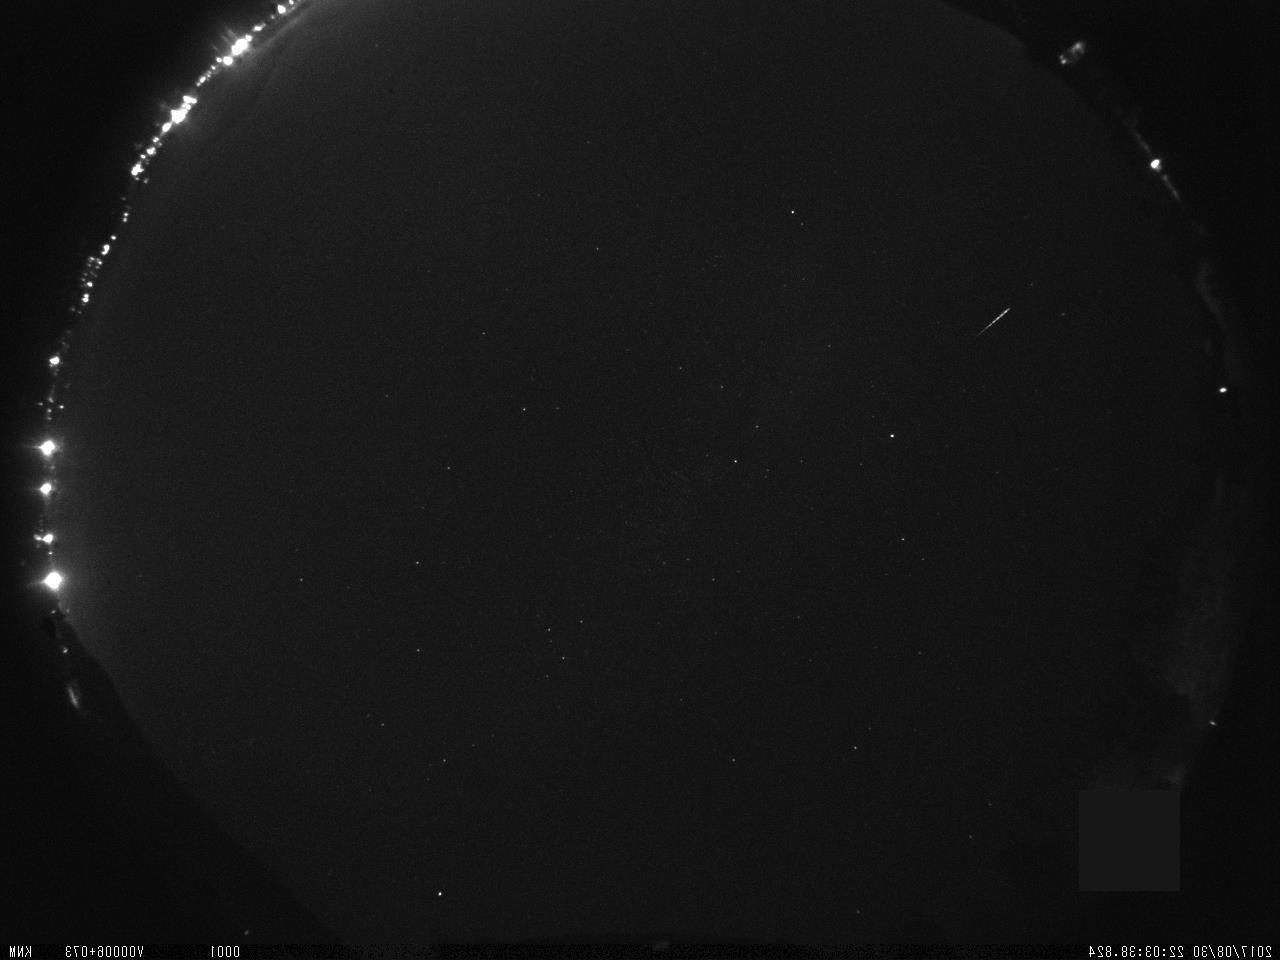meteor: (962, 300, 1019, 339)
